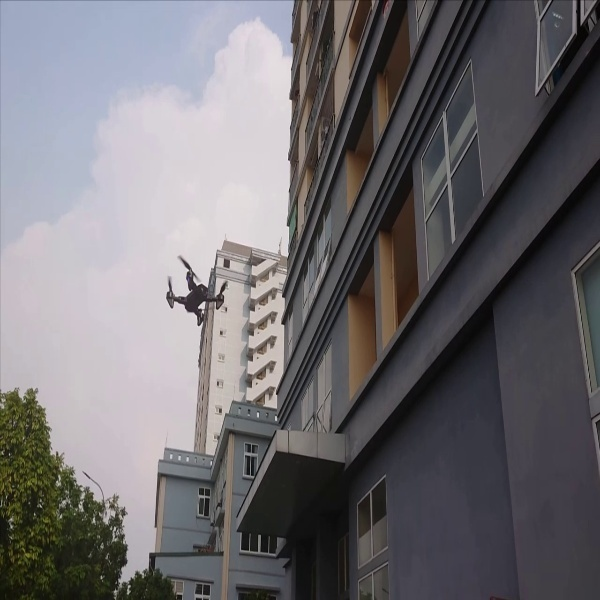drone: (156, 253, 234, 328)
